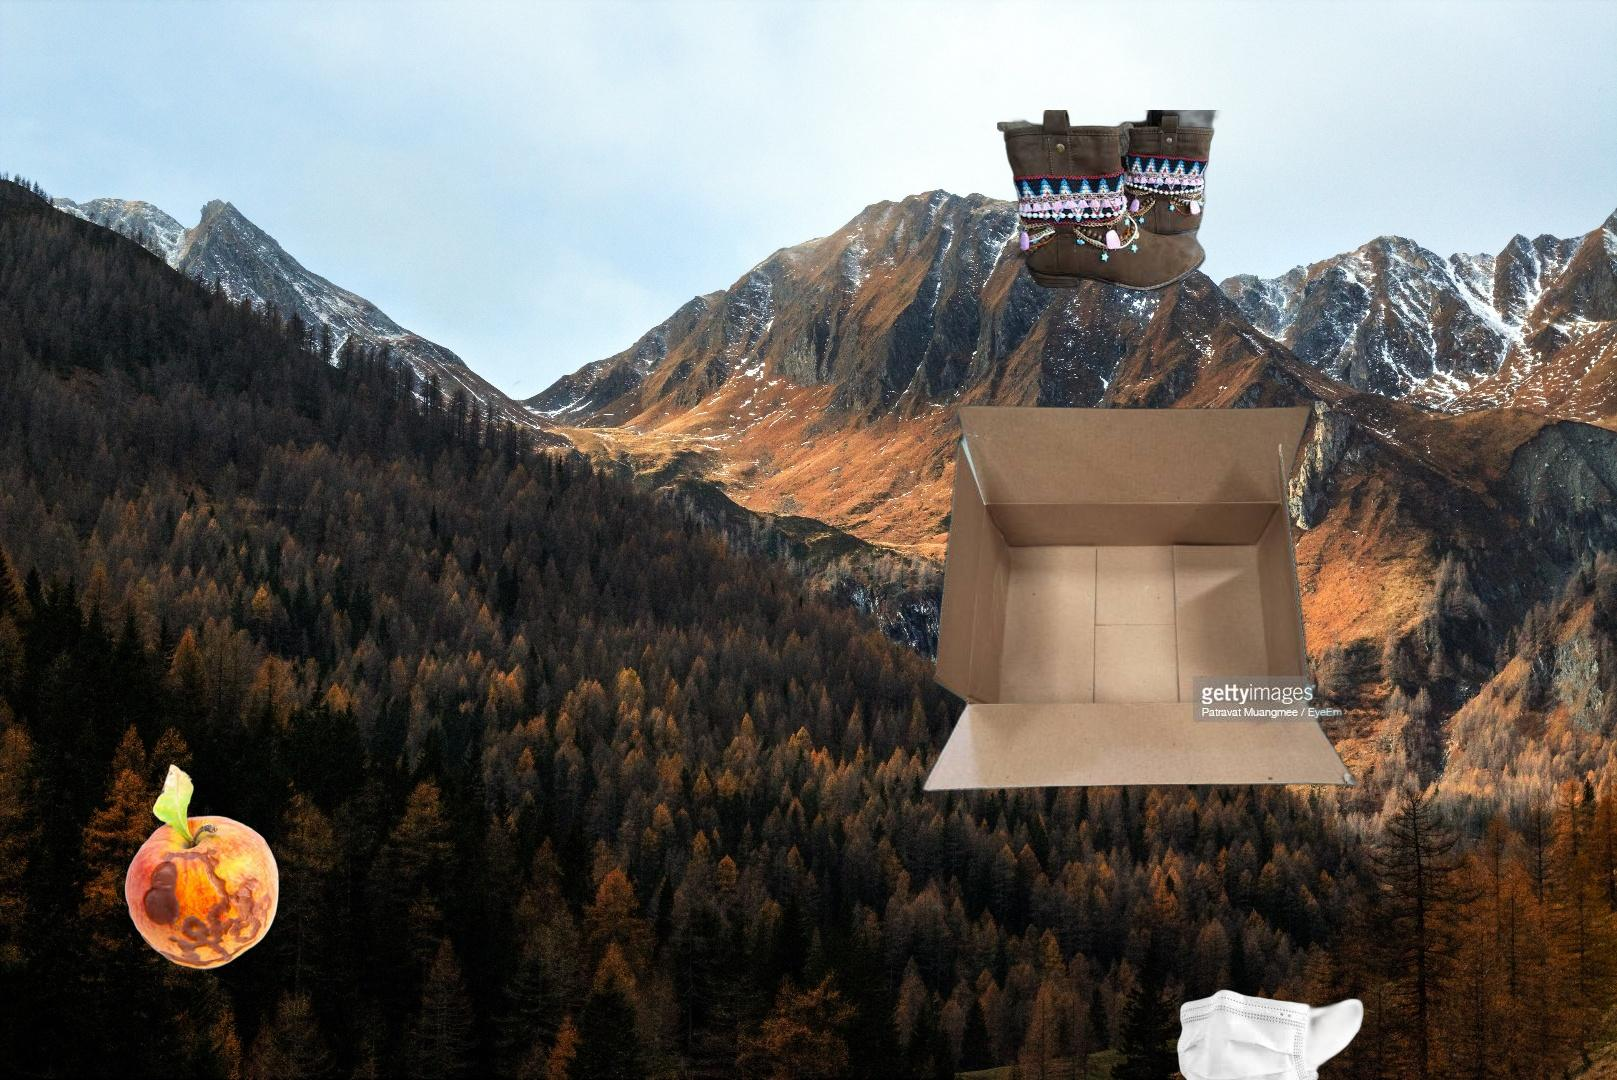biological: (122, 761, 282, 973)
shoes: (996, 110, 1225, 294)
trash: (1174, 987, 1368, 1080)
trashbox-cardboard: (917, 401, 1363, 796)
